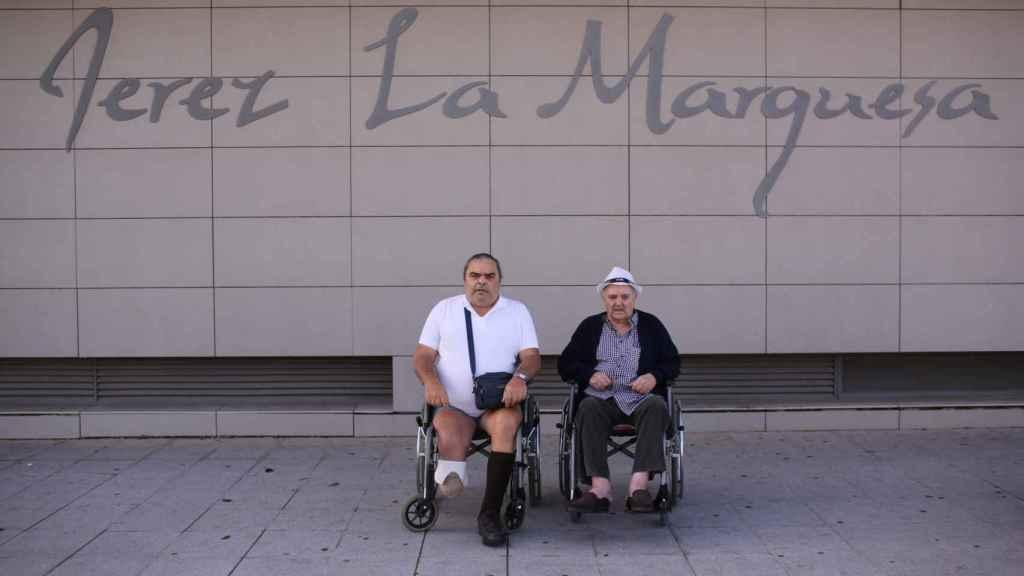wheelchair: (401, 252, 542, 546), (556, 267, 686, 526)
